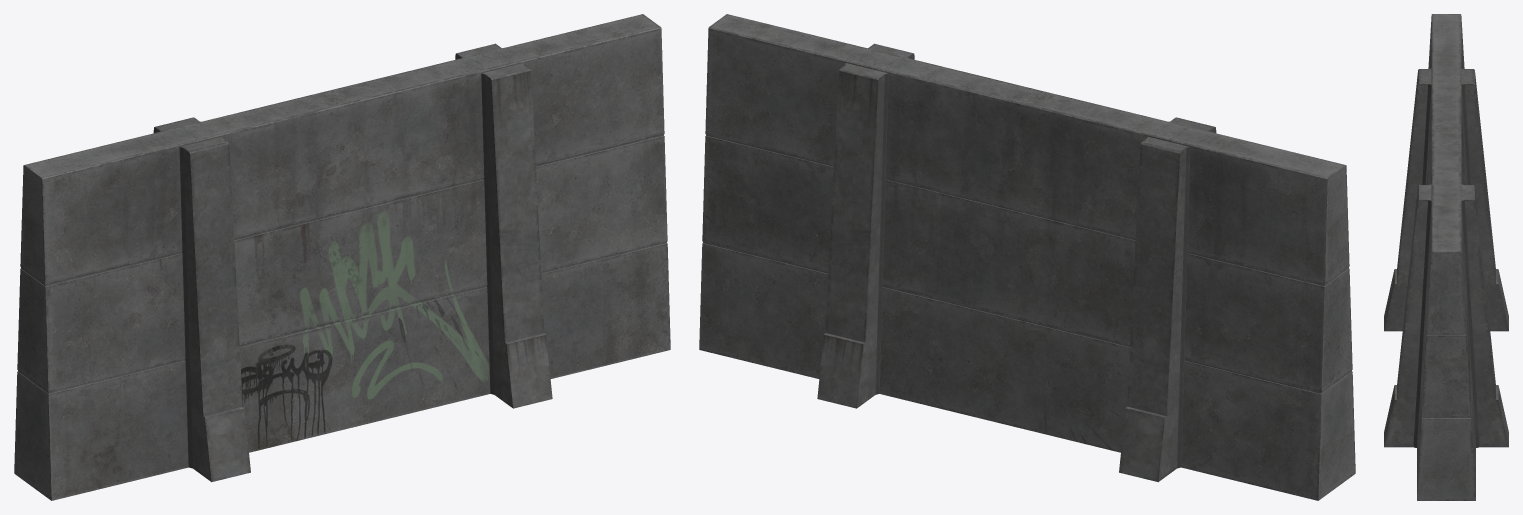
The model's file is wall.glb.
The picture shows the model from 3 angles, left to right: view 1: azimuth 30°, elevation 25°; view 2: azimuth 150°, elevation 25°; view 3: azimuth 270°, elevation 25°; orthographic projection. The views are drawn at different scales.
Visible parts, largest first — view 1: Wall_Concrete; view 2: Wall_Concrete; view 3: Wall_Concrete.
Part boxes in pixels (x1,y1,x2,y2): Wall_Concrete: (14,14,670,500); Wall_Concrete: (699,14,1355,500); Wall_Concrete: (1384,14,1508,500).
Bounding box in the file's own units: 16 × 7.79 × 3.55.
1 material, 1 textured.
